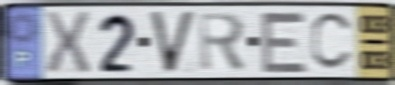2: (93, 9, 139, 77)
C: (309, 10, 356, 73)
E: (258, 9, 311, 75)
R: (197, 10, 248, 75)
V: (147, 9, 199, 77)
X: (44, 9, 93, 77)
